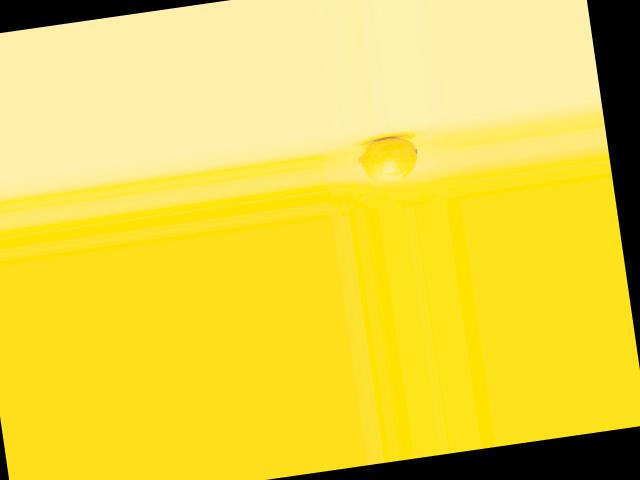lemon: (346, 135, 427, 189)
